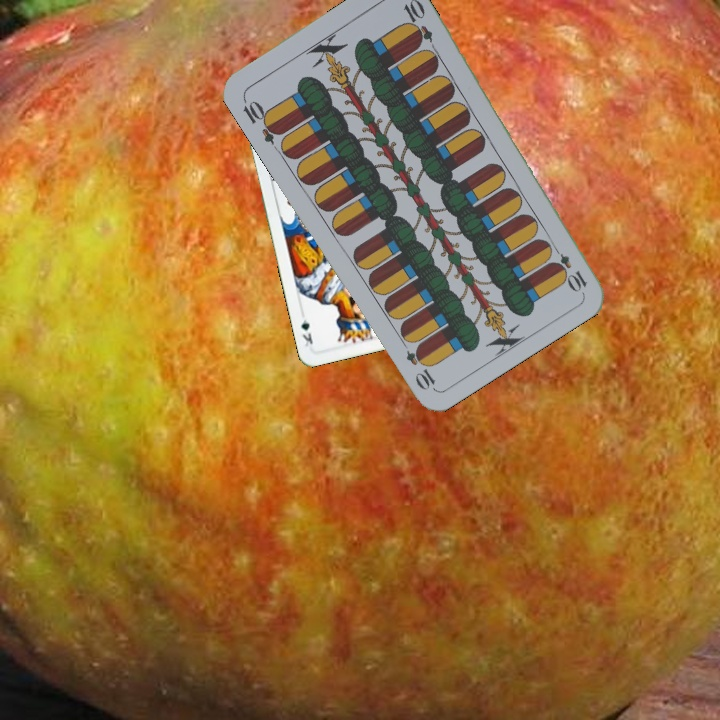E10: (239, 94, 285, 147), (546, 240, 590, 294)
